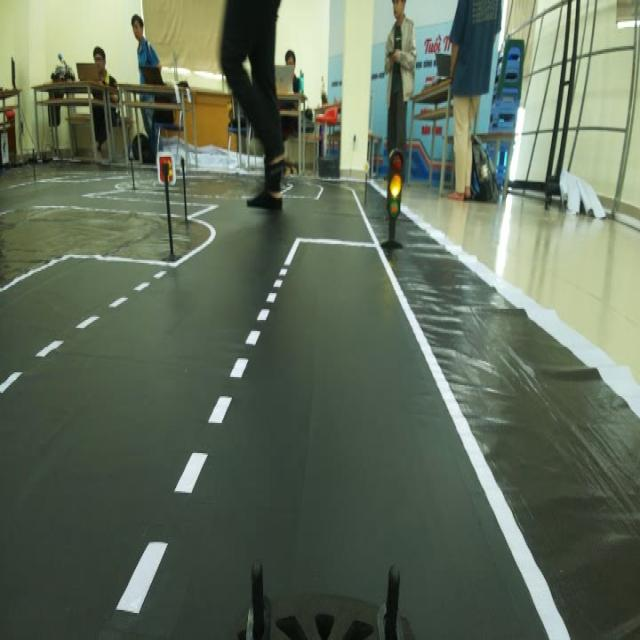trafficlight: (368, 143, 413, 269)
